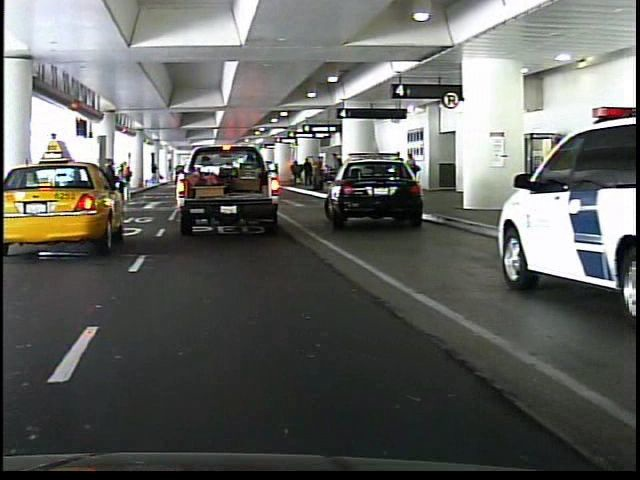person: (96, 155, 120, 222), (170, 150, 192, 203)
